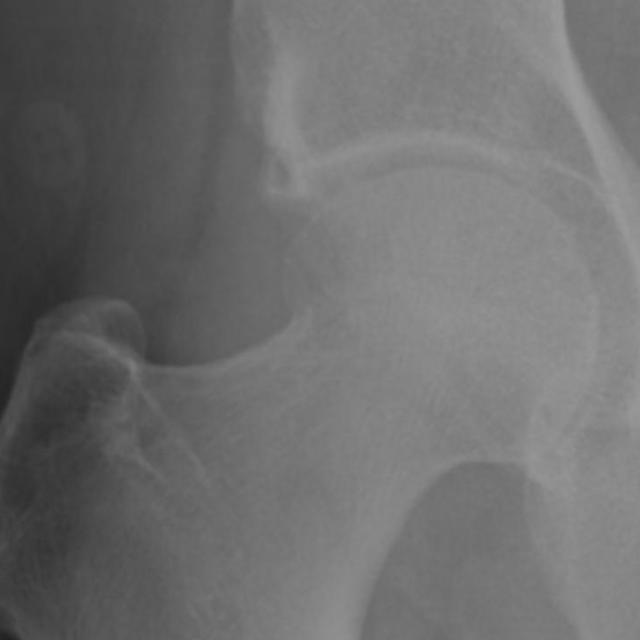Fitted_femural_head: (331, 165, 432, 331)
